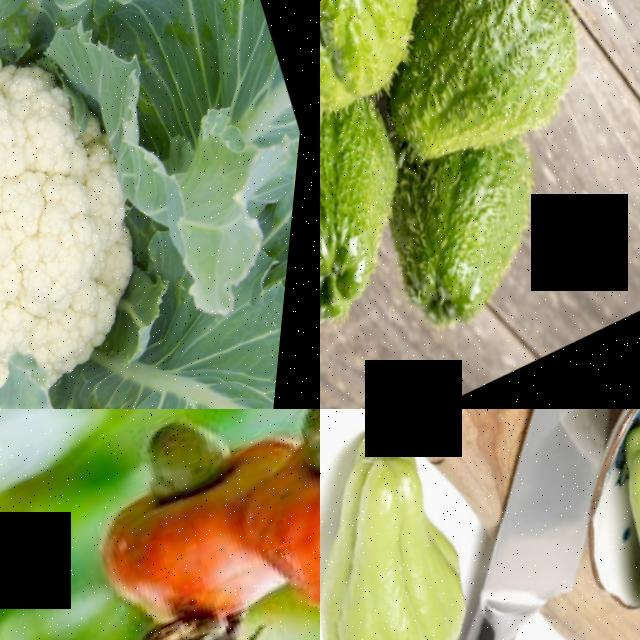cashew: (102, 409, 264, 536), (252, 409, 320, 520)
cauliflower: (0, 0, 293, 409)
chayote: (373, 0, 608, 196), (320, 409, 514, 640), (320, 104, 414, 342), (320, 0, 456, 128), (569, 427, 640, 640)
